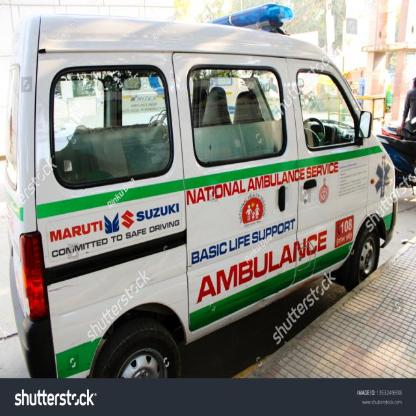priority: (8, 2, 398, 378)
